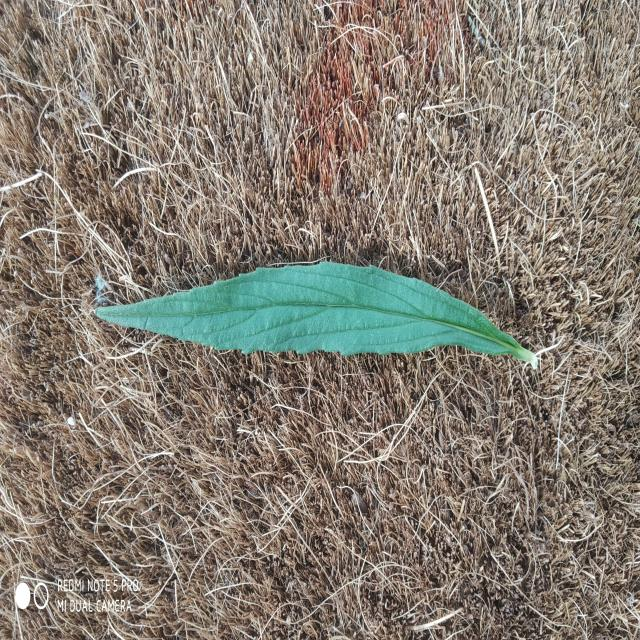thambe: (96, 262, 538, 369)
